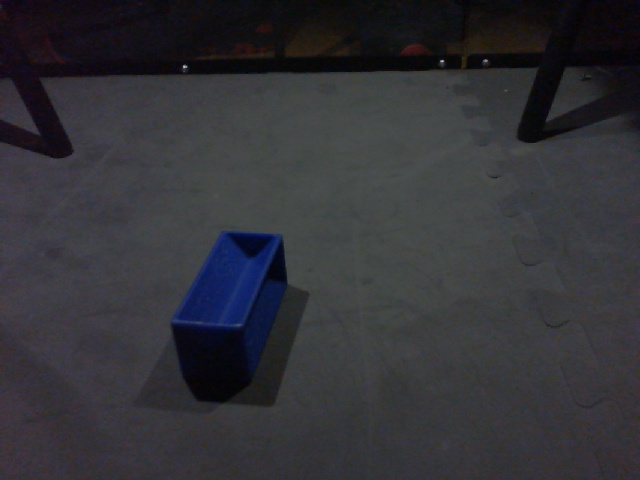BlueSample: (168, 225, 294, 390)
